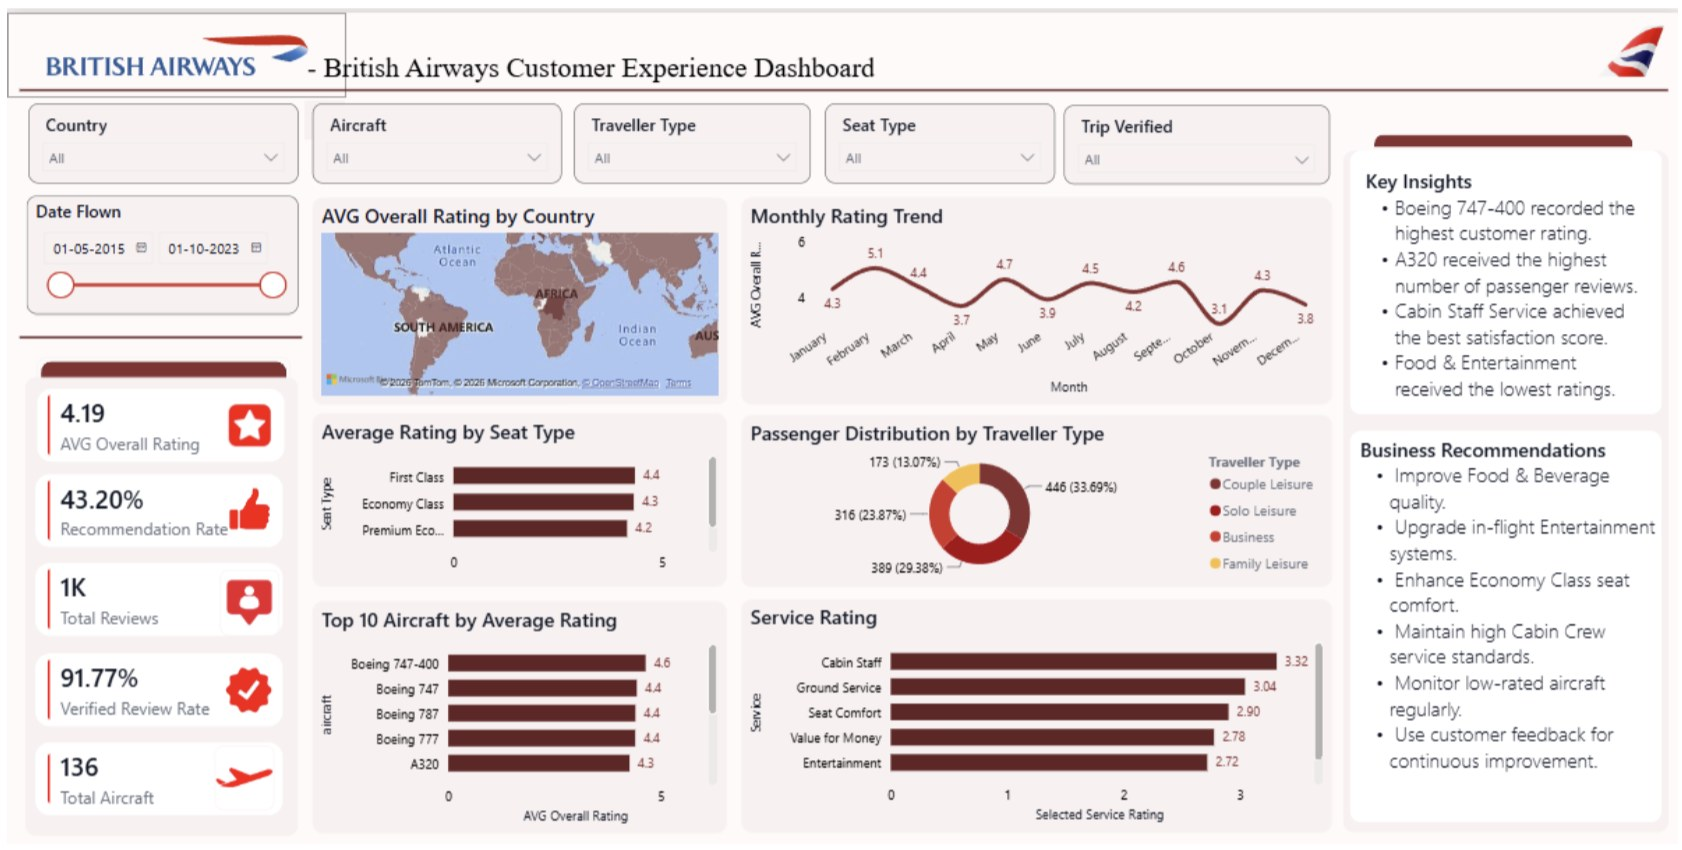

Layout of this report page (visuals, bound fields, positions):
{"tool":"powerbi","page":{"name":"Page 1","canvas":[1600,800],"ordinal":5},"visuals":[{"type":"shape","box":[1276.7,131.7,311.7,653.3],"z":0},{"type":"shape","box":[27.8,330,242.2,24.4],"z":1000},{"type":"image","box":[0,0,325,81.7],"z":2000},{"type":"textbox","title":"- British Airways Customer Experience Dashboard","box":[282,36,568,62],"z":3000},{"type":"shape","box":[11.8,55.5,1576.4,38.2],"z":4000},{"type":"slicer","fields":{"Values":["Countries.Country"]},"box":[20,87.4,258.3,76.7],"z":5000},{"type":"slicer","fields":{"Values":["ba_reviews.aircraft"]},"box":[291.5,87.2,238.3,76.7],"z":6000},{"type":"slicer","fields":{"Values":["ba_reviews.traveller_type"]},"box":[541.4,87.4,226.7,76.7],"z":7000},{"type":"slicer","fields":{"Values":["ba_reviews.seat_type"]},"box":[781.4,87.4,220,76.7],"z":8000},{"type":"slicer","fields":{"Values":["ba_reviews.trip_verified"]},"box":[1010,88,254,76],"z":9000},{"type":"slicer","title":"Date Flown","fields":{"Values":["ba_reviews.date_flown"]},"box":[18.3,175,260,113.3],"z":10000},{"type":"lineChart","title":"Monthly Rating Trend","fields":{"Category":["Calendar.Month"],"Y":["Table.AVG Overall Rating"]},"box":[701.4,176.5,565,198.3],"z":12000},{"type":"barChart","title":"Top 10 Aircraft by Average Rating","fields":{"Category":["ba_reviews.aircraft"],"Y":["Table.AVG Overall Rating"]},"box":[292,564,396,222],"z":13000},{"type":"clusteredBarChart","title":"Service Rating","fields":{"Y":["Calendar.Selected Service Rating"],"Category":["Service Category.Service"]},"box":[701.7,561.7,565,223.3],"z":14000},{"type":"donutChart","title":"Passenger Distribution by Traveller Type","fields":{"Y":["Table.Review Count"],"Category":["ba_reviews.traveller_type"]},"box":[701.4,384.8,565,165],"z":15000},{"type":"barChart","title":"Average Rating by Seat Type","fields":{"Category":["ba_reviews.seat_type"],"Y":["Table.AVG Overall Rating"]},"box":[292,384,396,166],"z":16000},{"type":"shape","box":[16.5,348.4,261.7,440],"z":17000},{"type":"shape","box":[26.5,526.4,236.7,70],"z":18000},{"type":"shape","box":[26.5,613.1,236.7,70],"z":19000},{"type":"shape","box":[26.5,698.1,236.7,70],"z":20000},{"type":"shape","box":[28.2,359.8,236.7,70],"z":21000},{"type":"shape","box":[26.5,441.4,236.7,70],"z":22000},{"type":"cardVisual","fields":{"Data":["Table.AVG Overall Rating"]},"box":[21.5,348.1,210,93.3],"z":23000},{"type":"cardVisual","fields":{"Data":["Table.Recommendation Rate"]},"box":[21.5,429.8,230,93.3],"z":24000},{"type":"cardVisual","fields":{"Data":["Table.Total Reviews"]},"box":[21.5,515.1,161.7,93.3],"z":25000},{"type":"cardVisual","fields":{"Data":["Table.Verified Review Rate"]},"box":[21.5,601.8,205,93.3],"z":26000},{"type":"image","box":[210.9,375.1,40,40],"z":27000},{"type":"image","box":[211.5,441.4,40,66.7],"z":28000},{"type":"image","box":[203.2,533.1,56.7,63.3],"z":29000},{"type":"image","box":[208.2,619.8,45,56.7],"z":30000},{"type":"cardVisual","fields":{"Data":["Table.Total Flights"]},"box":[21.5,691.4,193.3,83.3],"z":31000},{"type":"image","box":[198.2,701.4,56.7,61.7],"z":32000},{"type":"shape","box":[11.8,291.8,270,38.2],"z":33000},{"type":"shape","box":[1282.7,131.6,298.6,252.9],"z":34000},{"type":"shape","box":[1283.3,400,298.3,375],"z":35000},{"type":"textbox","box":[1288.3,400,300,333.3],"z":36000},{"type":"textbox","box":[1292.7,143,278.6,241.4],"z":37000},{"type":"shape","box":[1306.4,116.4,247.1,12.1],"z":38000},{"type":"image","box":[1520,7.3,63.6,60],"z":39000},{"type":"filledMap","fields":{"Category":["Countries.Country"]},"box":[291.7,176.7,396.7,198.3],"z":39501}]}

Visuals, with their boxes in screenshot pixels (x1, y1, x2, y2), scaled from the page's 1600x800 canvas onto the 1682x850 screenshot:
shape: pyautogui.locateOnScreen(1342, 140, 1670, 834)
shape: pyautogui.locateOnScreen(29, 351, 284, 377)
image: pyautogui.locateOnScreen(0, 0, 342, 87)
"- British Airways Customer Experience Dashboard" textbox: pyautogui.locateOnScreen(296, 38, 894, 104)
shape: pyautogui.locateOnScreen(12, 59, 1670, 100)
slicer - Countries.Country: pyautogui.locateOnScreen(21, 93, 293, 174)
slicer - ba_reviews.aircraft: pyautogui.locateOnScreen(306, 93, 557, 174)
slicer - ba_reviews.traveller_type: pyautogui.locateOnScreen(569, 93, 807, 174)
slicer - ba_reviews.seat_type: pyautogui.locateOnScreen(821, 93, 1053, 174)
slicer - ba_reviews.trip_verified: pyautogui.locateOnScreen(1062, 94, 1329, 174)
"Date Flown" slicer: pyautogui.locateOnScreen(19, 186, 293, 306)
"Monthly Rating Trend" lineChart: pyautogui.locateOnScreen(737, 188, 1331, 398)
"Top 10 Aircraft by Average Rating" barChart: pyautogui.locateOnScreen(307, 599, 723, 835)
"Service Rating" clusteredBarChart: pyautogui.locateOnScreen(738, 597, 1332, 834)
"Passenger Distribution by Traveller Type" donutChart: pyautogui.locateOnScreen(737, 409, 1331, 584)
"Average Rating by Seat Type" barChart: pyautogui.locateOnScreen(307, 408, 723, 584)
shape: pyautogui.locateOnScreen(17, 370, 292, 838)
shape: pyautogui.locateOnScreen(28, 559, 277, 634)
shape: pyautogui.locateOnScreen(28, 651, 277, 726)
shape: pyautogui.locateOnScreen(28, 742, 277, 816)
shape: pyautogui.locateOnScreen(30, 382, 278, 457)
shape: pyautogui.locateOnScreen(28, 469, 277, 543)
cardVisual - Table.AVG Overall Rating: pyautogui.locateOnScreen(23, 370, 243, 469)
cardVisual - Table.Recommendation Rate: pyautogui.locateOnScreen(23, 457, 264, 556)
cardVisual - Table.Total Reviews: pyautogui.locateOnScreen(23, 547, 193, 646)
cardVisual - Table.Verified Review Rate: pyautogui.locateOnScreen(23, 639, 238, 739)
image: pyautogui.locateOnScreen(222, 399, 264, 441)
image: pyautogui.locateOnScreen(222, 469, 264, 540)
image: pyautogui.locateOnScreen(214, 566, 273, 634)
image: pyautogui.locateOnScreen(219, 659, 266, 719)
cardVisual - Table.Total Flights: pyautogui.locateOnScreen(23, 735, 226, 823)
image: pyautogui.locateOnScreen(208, 745, 268, 811)
shape: pyautogui.locateOnScreen(12, 310, 296, 351)
shape: pyautogui.locateOnScreen(1348, 140, 1662, 409)
shape: pyautogui.locateOnScreen(1349, 425, 1663, 823)
textbox: pyautogui.locateOnScreen(1354, 425, 1670, 779)
textbox: pyautogui.locateOnScreen(1359, 152, 1652, 408)
shape: pyautogui.locateOnScreen(1373, 124, 1633, 137)
image: pyautogui.locateOnScreen(1598, 8, 1665, 72)
filledMap - Countries.Country: pyautogui.locateOnScreen(307, 188, 724, 398)
